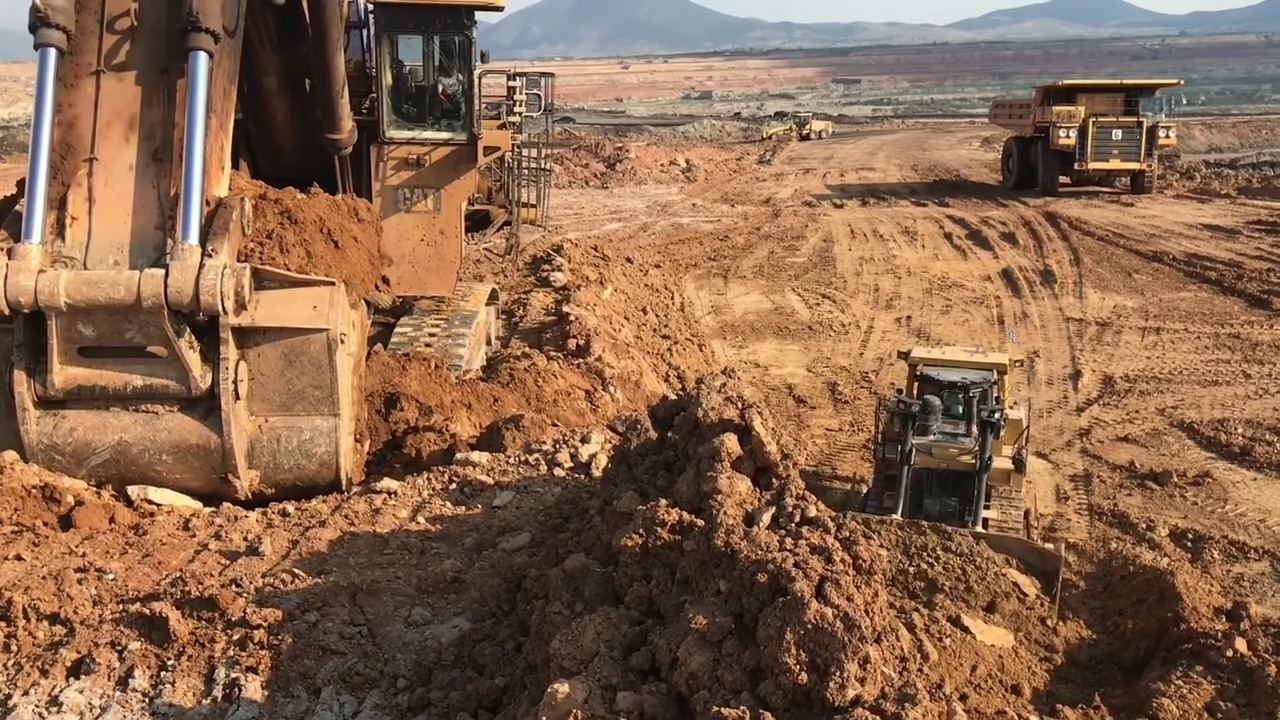bulldozer: (774, 344, 1069, 633)
dumper: (990, 78, 1185, 193)
excavator: (7, 1, 551, 490)
